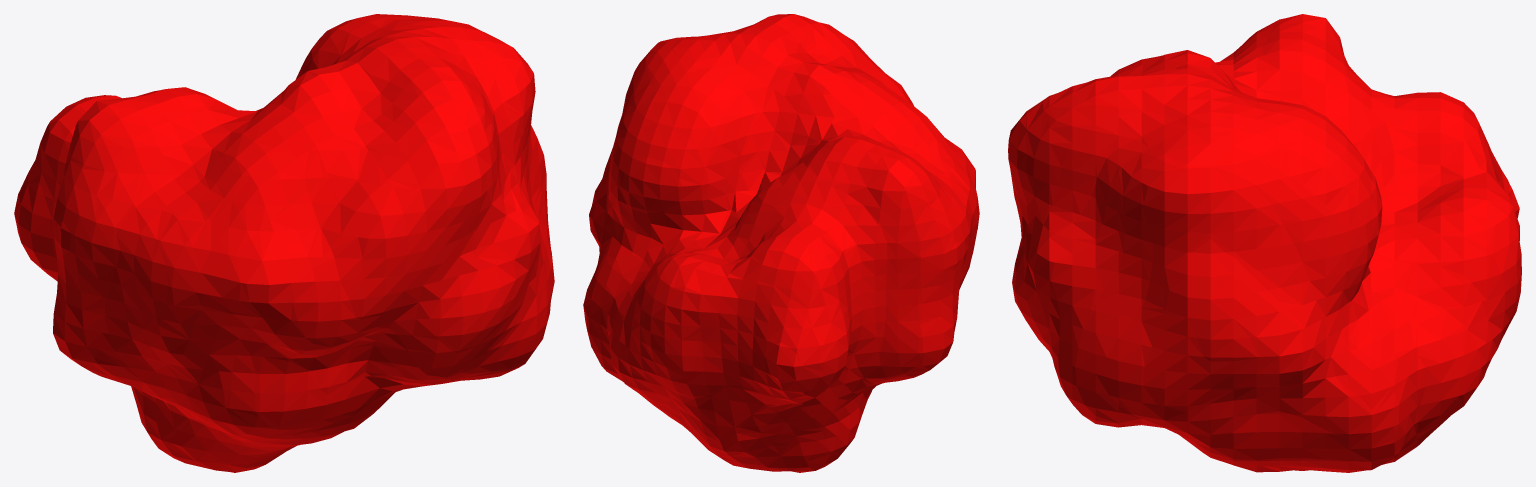
File: tatD_coarse.dae
3 renders of one model, left to right at view 1: azimuth 30°, elevation 25°; view 2: azimuth 150°, elevation 25°; view 3: azimuth 270°, elevation 25°, orthographic. The views are drawn at different scales.
Parts seen in each view (by area): view 1: tatD; view 2: tatD; view 3: tatD.
Part boxes in pixels (bbox=[...]): tatD: bbox=[14, 14, 554, 472]; tatD: bbox=[583, 14, 979, 472]; tatD: bbox=[1008, 14, 1521, 472].
Bounding box in the file's own units: 50.15 × 47.68 × 50.17.
